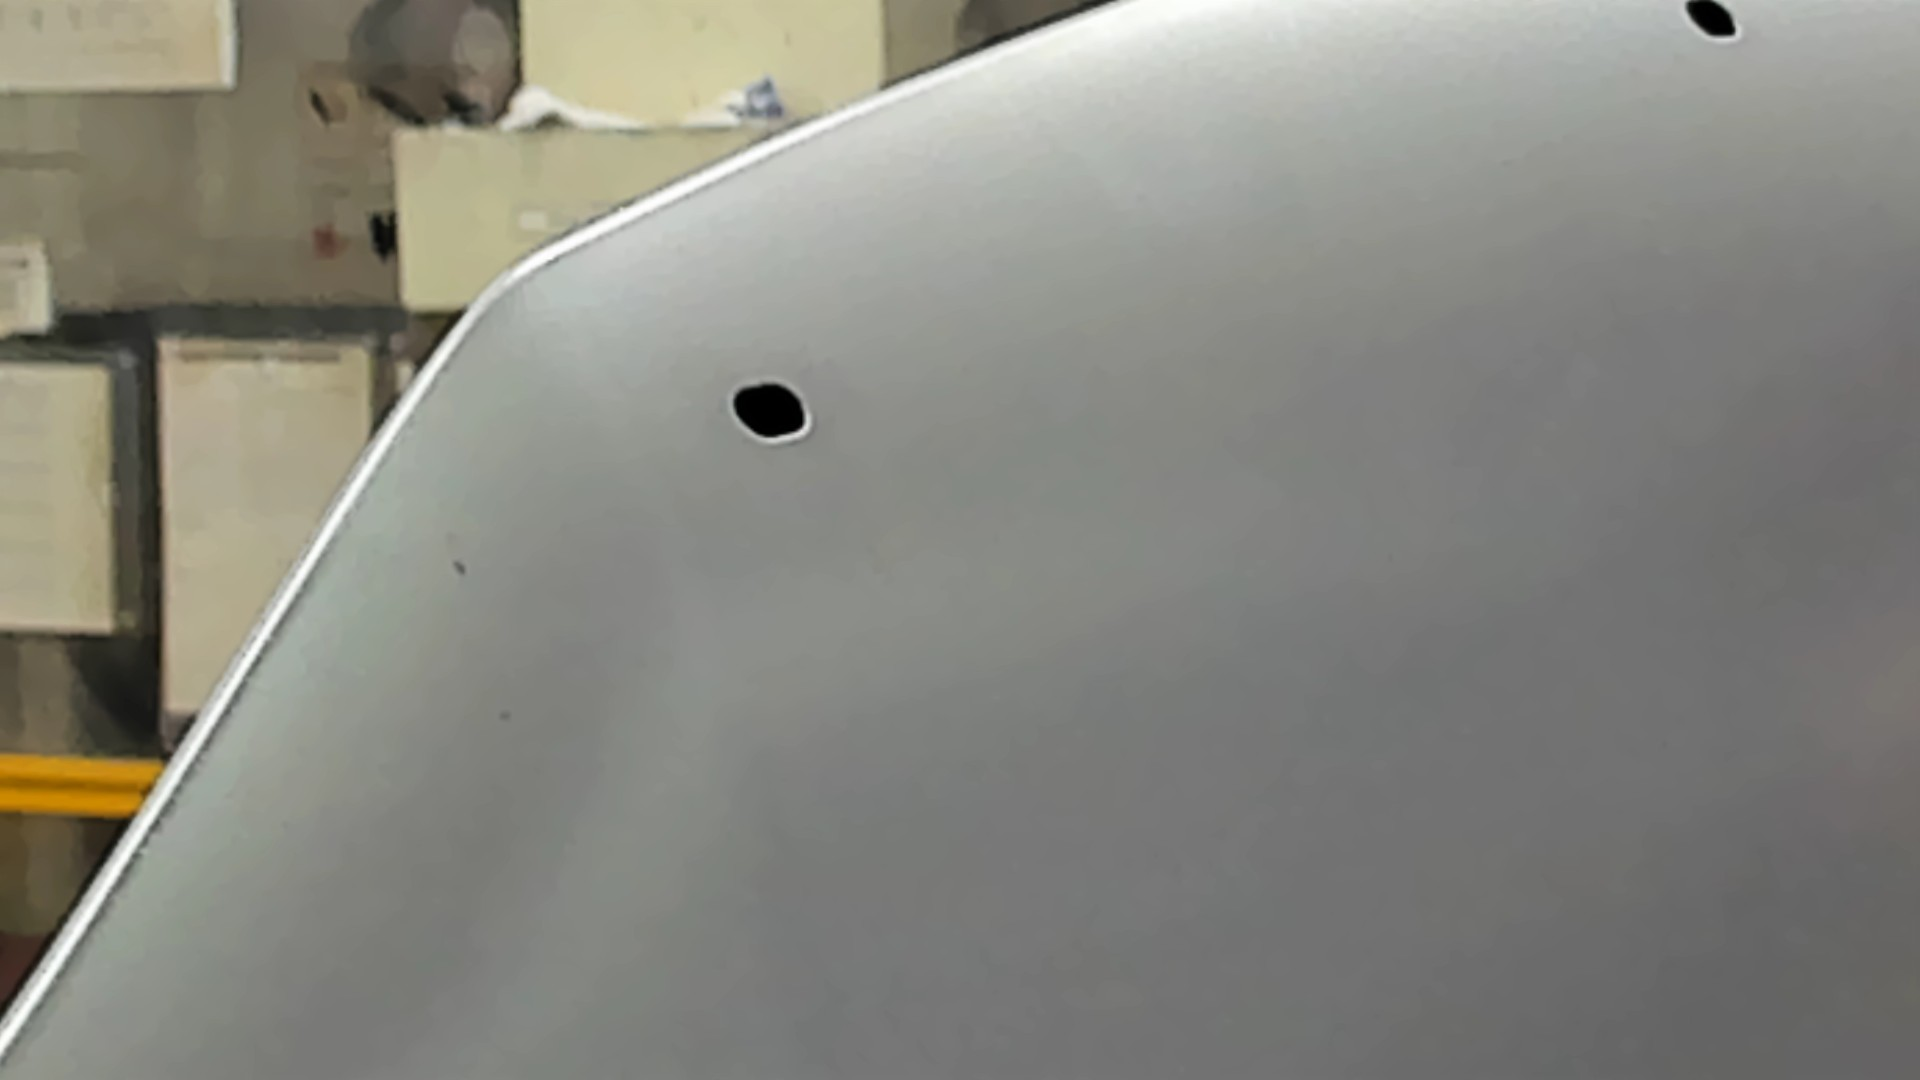amorfo: (727, 373, 814, 450), (1679, 1, 1749, 50)
capo: (881, 127, 1920, 1080)
